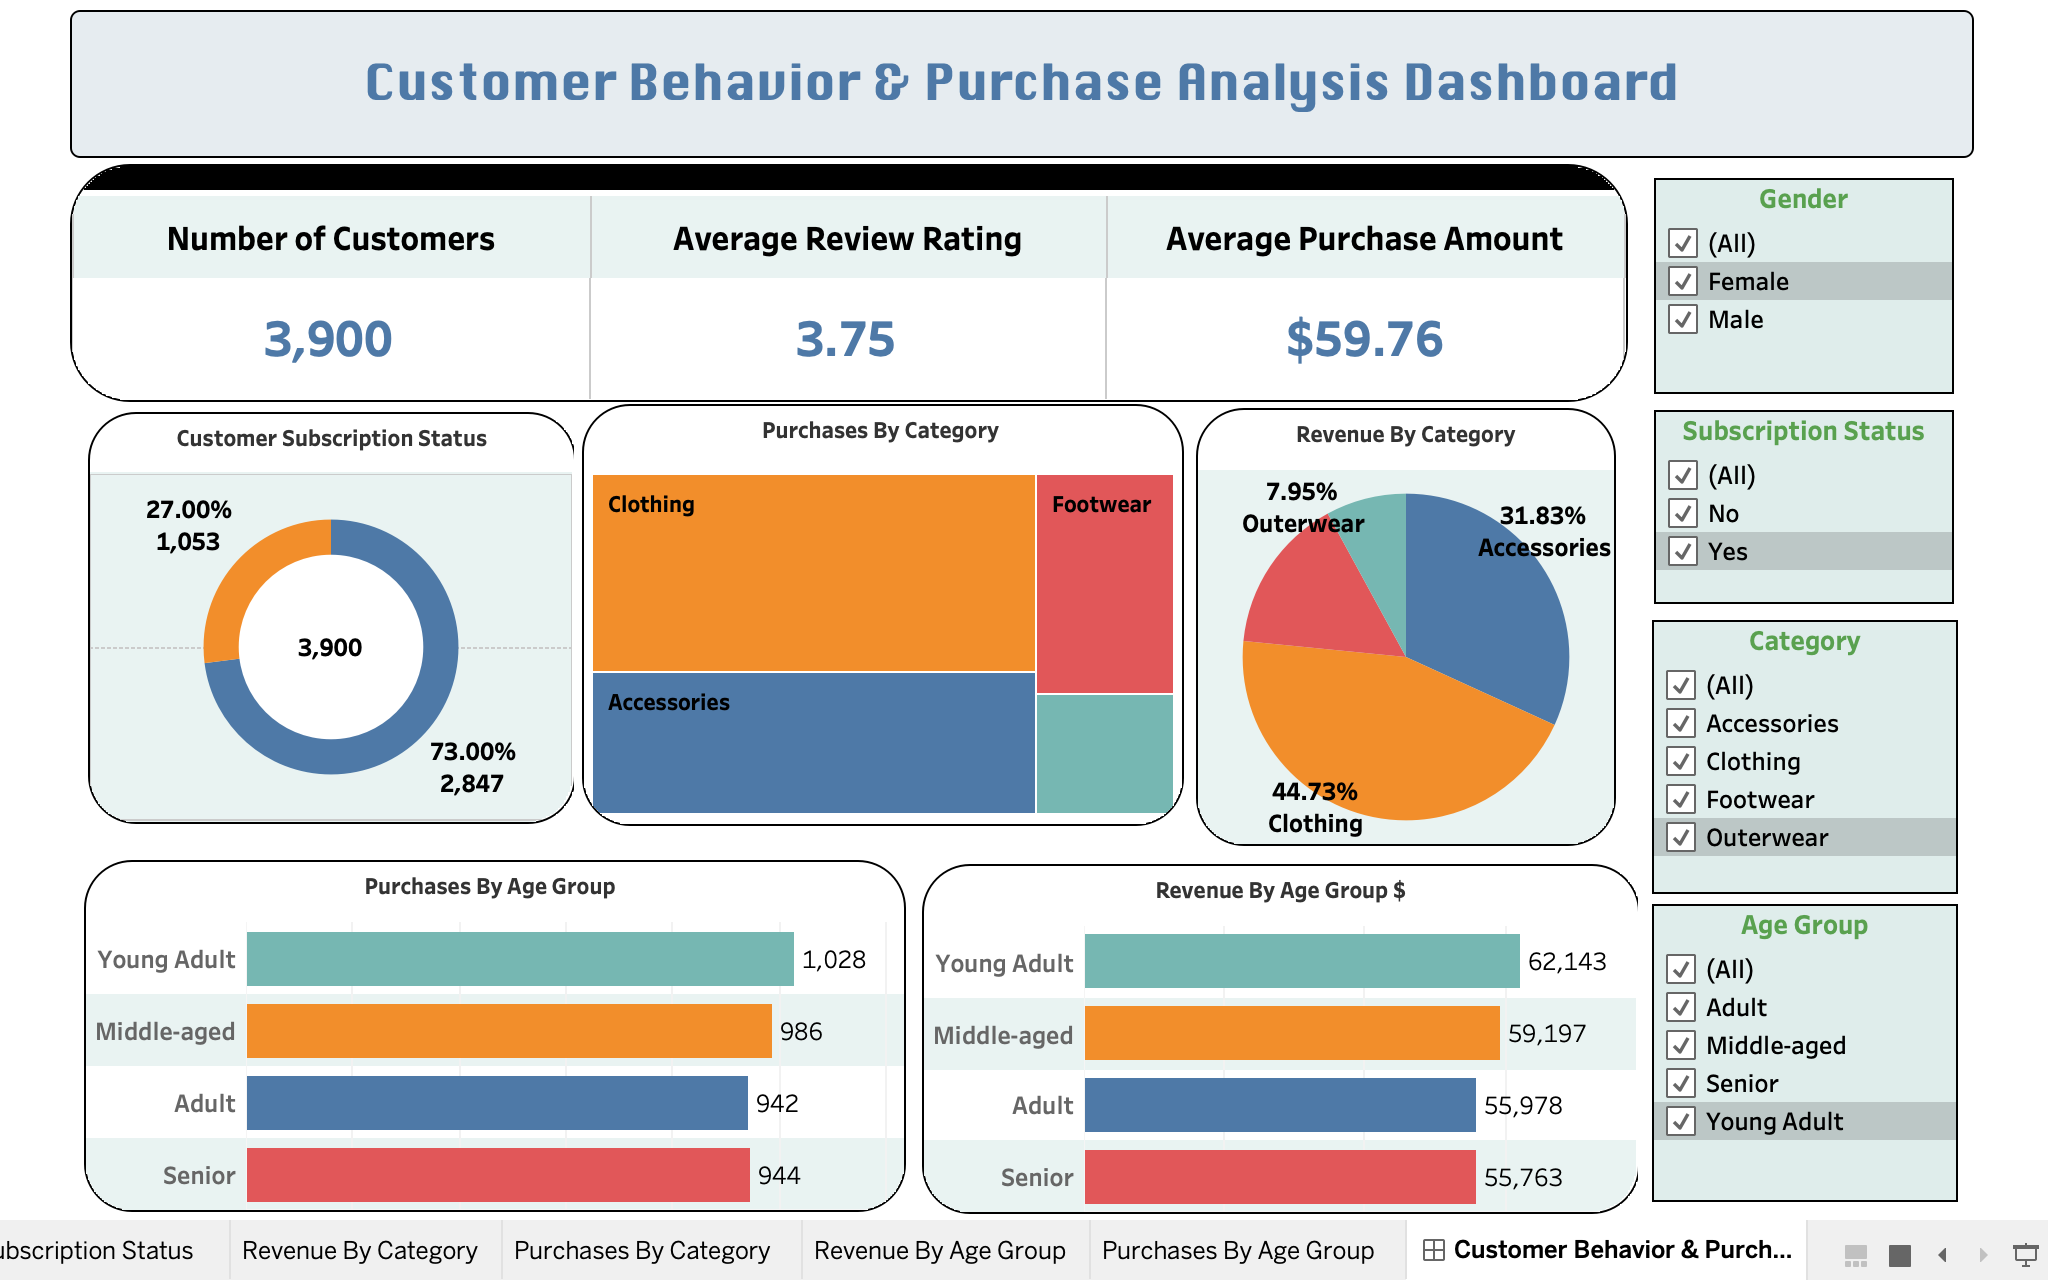

This screenshot's page, from the dashboard's own definition file:
{"tool":"tableau","page":{"name":"Customer Behavior & Purchase Analysis Dashboard ","canvas":[1000,1000],"units":"permille","ordinal":0},"visuals":[{"type":"text","box":[0,7.7,998.8,121.2]},{"type":"worksheet","title":"KPI","mark":"Automatic","box":[0,134.8,817.4,194.9]},{"type":"filter","title":"KPI","param":"[federated.1yt4ufg180gy6j1ao3p351rjum6m].[none:gender:nk]","box":[831.2,146.2,157.1,176.9]},{"type":"worksheet","title":"Purchases By Category ","mark":"Automatic","box":[268.6,331.5,315.8,346.1]},{"type":"worksheet","title":"Revenue By Category","mark":"Pie","box":[590.9,333.9,220.4,359.5]},{"type":"filter","title":"KPI","param":"[federated.1yt4ufg180gy6j1ao3p351rjum6m].[none:subscription_status:nk]","box":[831.2,336.5,157.1,159.6]},{"type":"worksheet","title":"Subscription Status  ","mark":"Pie","rows":["Calculation_5687473800904726","Calculation_5687473800904726"],"box":[9.4,337.6,255.6,337.6]},{"type":"filter","title":"KPI","param":"[federated.1yt4ufg180gy6j1ao3p351rjum6m].[none:category:nk]","box":[830,507.7,160.6,225]},{"type":"worksheet","title":"Purchases By Age Group ","mark":"Automatic","rows":["age_group"],"cols":["purchase_amount"],"box":[7,704.4,431.4,288.3]},{"type":"worksheet","title":"Revenue By Age Group","mark":"Automatic","rows":["age_group"],"cols":["purchase_amount"],"box":[446.7,708,376.3,286.5]},{"type":"filter","title":"KPI","param":"[federated.1yt4ufg180gy6j1ao3p351rjum6m].[none:age_group:nk]","box":[830,740.4,160.6,244.2]}]}

Visuals, with their boxes on the dashboard's canvas, which has no fixed pixel size, in thousandths of its width and height (x1, y1, x2, y2). These are canvas units, not pixel positions in the 2048x1280 screenshot, which may show the page scaled, cropped or inside an application window:
text: BBox(0, 8, 999, 129)
"KPI" worksheet: BBox(0, 135, 817, 330)
"KPI" filter: BBox(831, 146, 988, 323)
"Purchases By Category " worksheet: BBox(269, 332, 584, 678)
"Revenue By Category" worksheet (Pie marks): BBox(591, 334, 811, 693)
"KPI" filter: BBox(831, 336, 988, 496)
"Subscription Status  " worksheet (Pie marks): BBox(9, 338, 265, 675)
"KPI" filter: BBox(830, 508, 991, 733)
"Purchases By Age Group " worksheet: BBox(7, 704, 438, 993)
"Revenue By Age Group" worksheet: BBox(447, 708, 823, 994)
"KPI" filter: BBox(830, 740, 991, 985)
